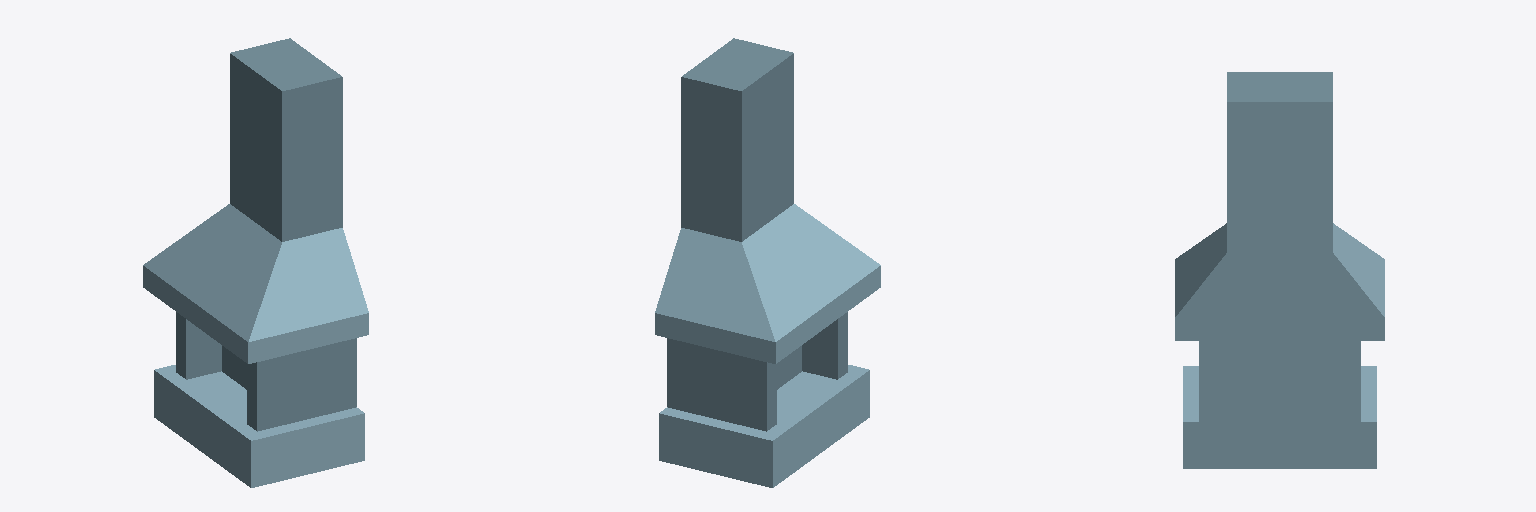
Rendered from chimneyBase.obj.
3 renders of one model, left to right at view 1: azimuth 30°, elevation 25°; view 2: azimuth 150°, elevation 25°; view 3: azimuth 270°, elevation 25°, orthographic.
Parts seen in each view (by area): view 1: chimneyBase; view 2: chimneyBase; view 3: chimneyBase.
Boxes of the visible parts, box(x1,y1,x2,y2) form: chimneyBase: box(143, 38, 368, 487); chimneyBase: box(655, 38, 880, 487); chimneyBase: box(1175, 72, 1384, 468).
Size of the model in its own units: 0.344 by 1 by 0.52.